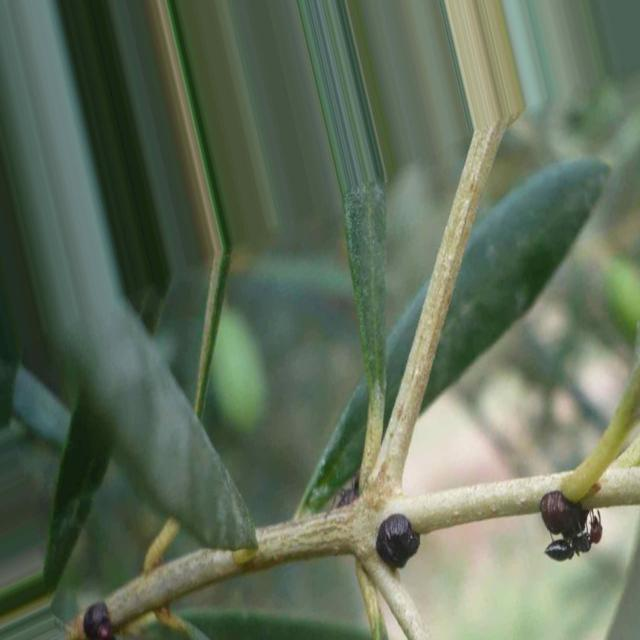BlackScale: (376, 514, 420, 570), (540, 491, 588, 539), (82, 602, 116, 639)
